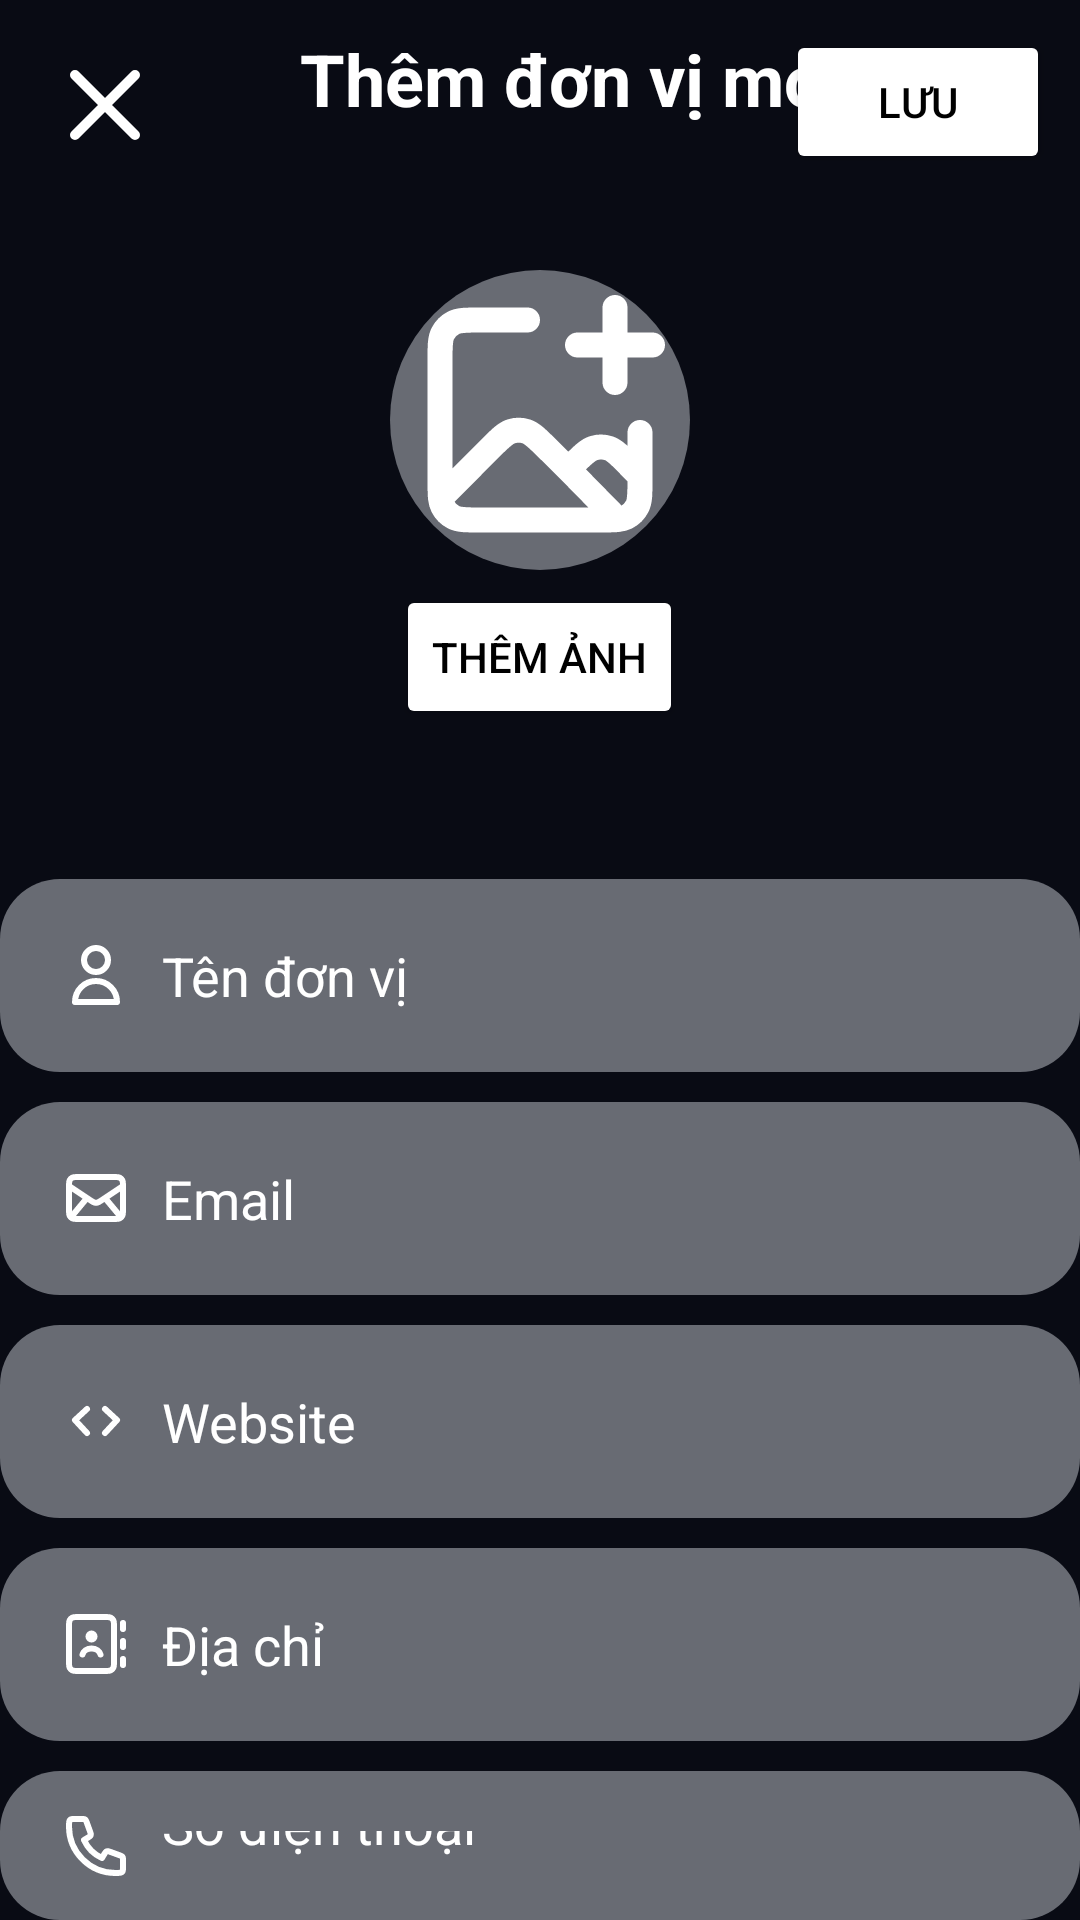

Icon bounding boxes for this 1080x1920 phone screenshot, format rect(x1, y1, x2, y2):
close: rect(70, 70, 140, 140)
